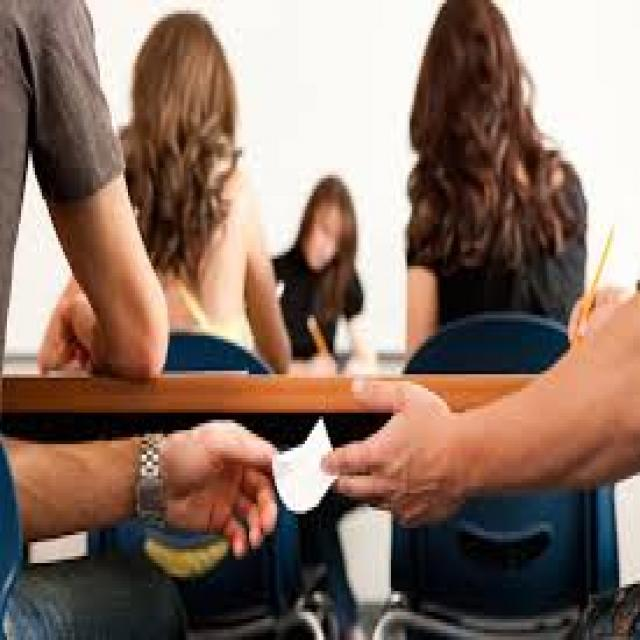cheating: (134, 340, 486, 583)
